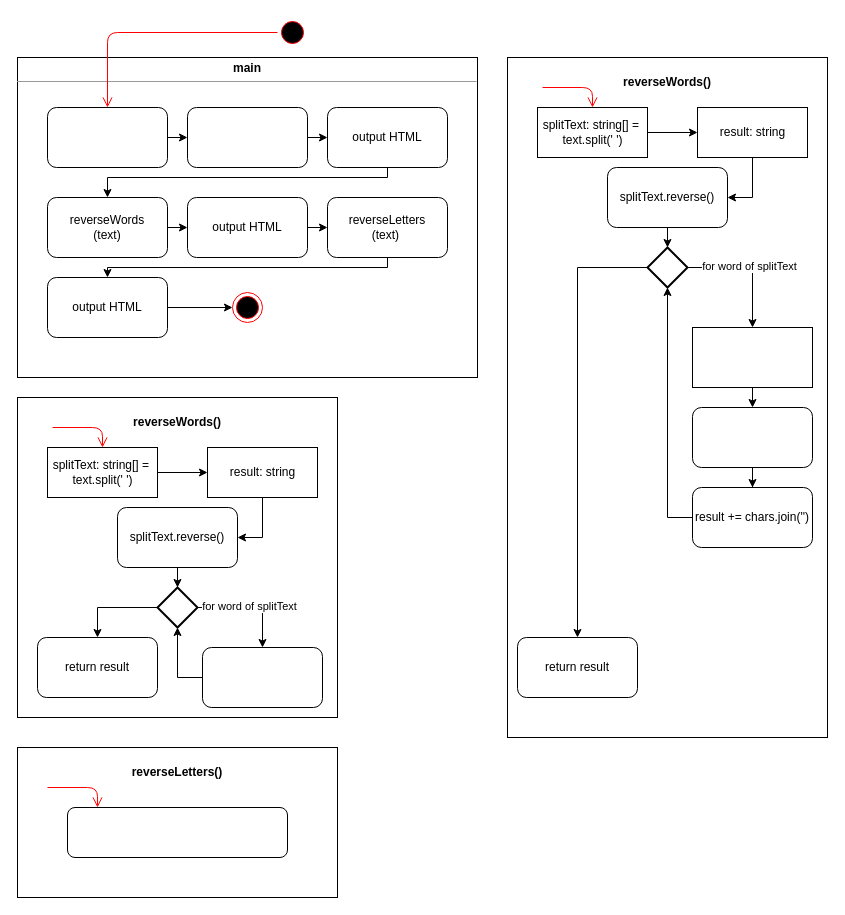
This 845x915 diagram has some shape labels left out. The centre of each missing label's shape, as x and y in pixels:
"chars = word.split('')" belongs at point 752,357.
"chars.reverse()" belongs at point 752,437.
"input text: prompt()" belongs at point 107,137.
"result += word" belongs at point 262,677.
"return reverseSentence(reverseWords(text))" belongs at point 177,832.
"reverseSentence (text)" belongs at point 247,137.
